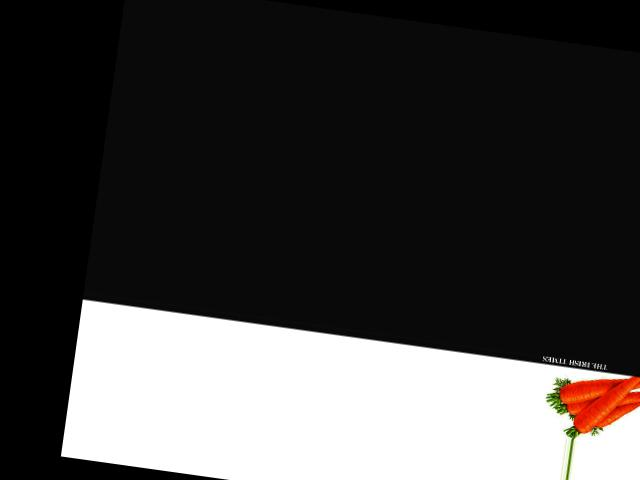carrot: (546, 355, 639, 411)
